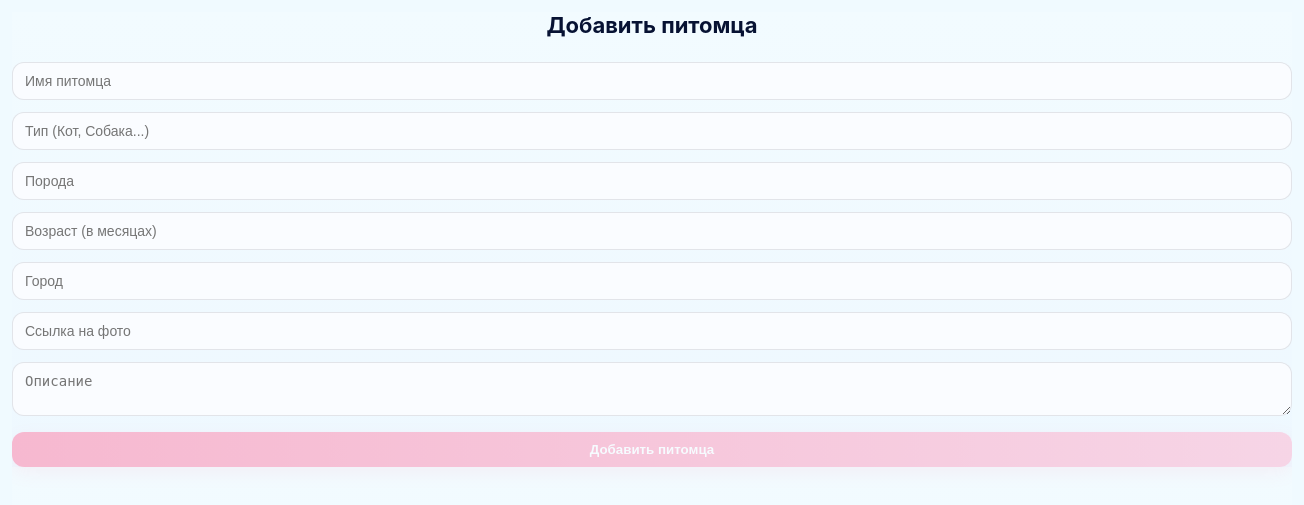
Test: AddPetForm › shows error message when name is too short
Type "A" into the field with placeholder "Имя питомца" at (652, 81), box x1=12 y1=62 x2=1292 y2=100
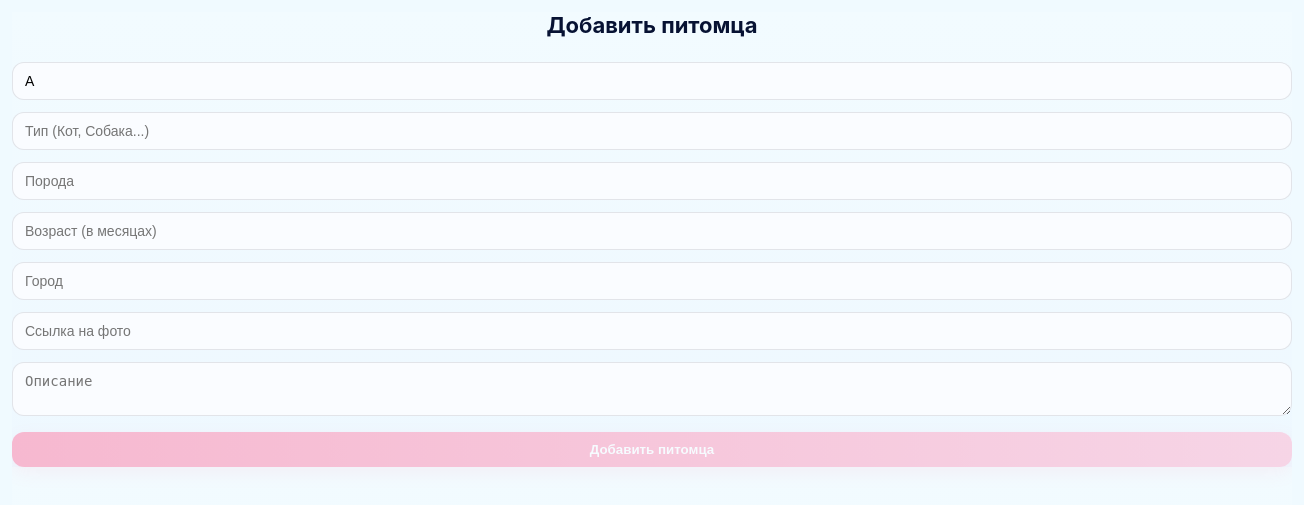
Leave the field with placeholder "Имя питомца", box x1=12 y1=62 x2=1292 y2=100
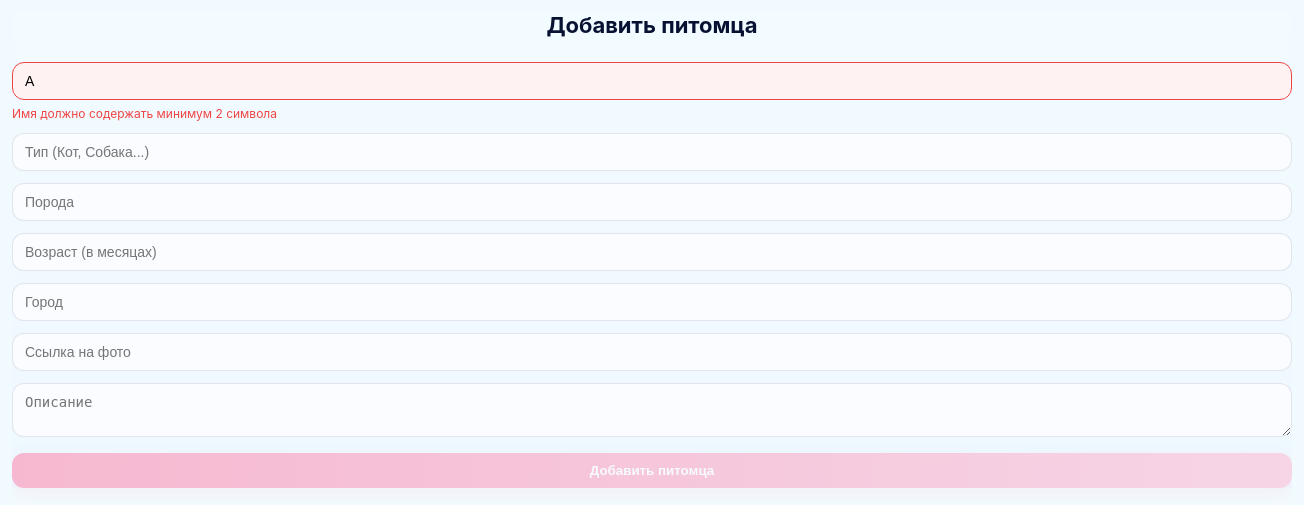
Check: the text "Имя должно содержать минимум 2 символа" is shown, box x1=12 y1=106 x2=277 y2=121
